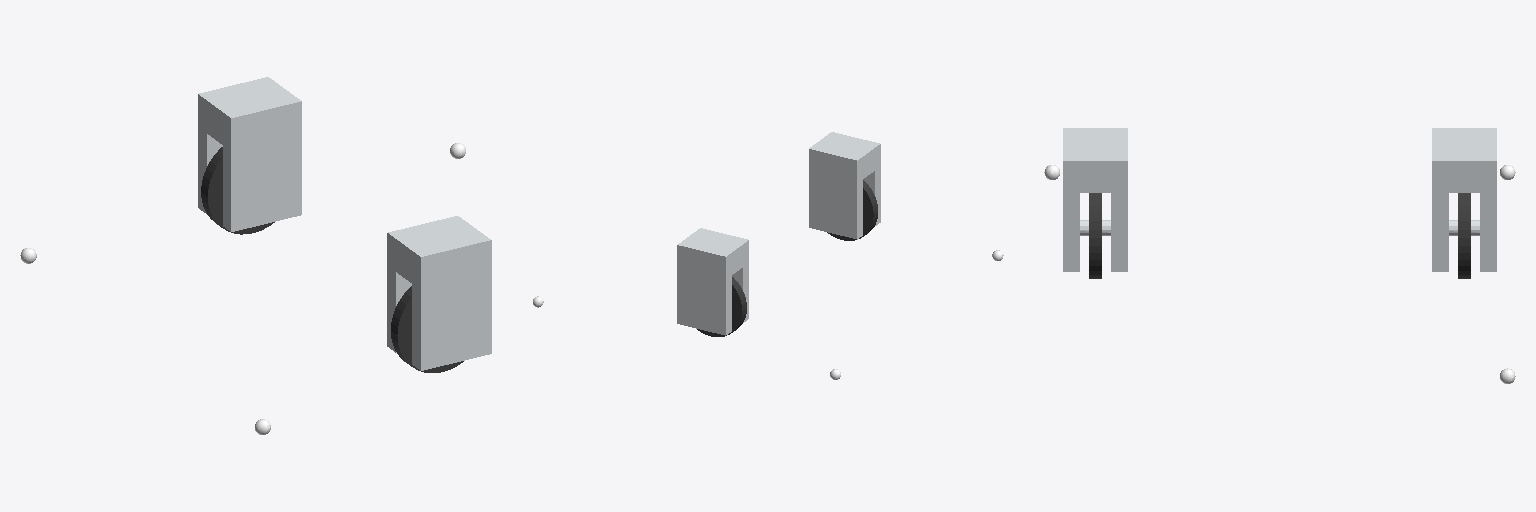
robot.urdf — robot_urdf:
<?xml version="1.0" encoding="utf-8"?>
<!-- This URDF was automatically created by SolidWorks to URDF Exporter! Originally created by
Stephen Brawner (brawner@gmail.com) 
     Commit Version: 1.6.0-4-g7f85cfe  Build Version: 1.6.7995.38578
     For more information, please see http://wiki.ros.org/sw_urdf_exporter -->
<robot
  name="robot_urdf">
  <link
    name="base_link">
  </link>
  <link
    name="chassis_link">
    <inertial>
      <origin
        xyz="-0.0030051 -4.1286E-16 -0.017698"
        rpy="0 0 0" />
      <mass
        value="62.522" />
      <inertia
        ixx="27.455"
        ixy="-5.3228E-14"
        ixz="-0.071116"
        iyy="29.275"
        iyz="-1.4137E-15"
        izz="51.49" />
    </inertial>
    <visual>
      <origin
        xyz="0 0 0"
        rpy="0 0 0" />
      <geometry>
        <mesh
          filename="package://robot_urdf/meshes/2w/chassis_link.STL" />
      </geometry>
      <material
        name="">
        <color
          rgba="0.89804 0.91765 0.92941 1" />
      </material>
    </visual>
    <collision>
      <origin
        xyz="0 0 0"
        rpy="0 0 0" />
      <geometry>
        <mesh
          filename="package://robot_urdf/meshes/2w/chassis_link.STL" />
      </geometry>
    </collision>
  </link>
  <joint
    name="chassis_joint"
    type="fixed">
    <origin
      xyz="0.067275 0 0.96832"
      rpy="0 0 0" />
    <parent
      link="base_link" />
    <child
      link="chassis_link" />
    <axis
      xyz="0 0 0" />
  </joint>
  <link
    name="left_wheel_holder_link">
    <inertial>
      <origin
        xyz="2.0817E-16 -2.2204E-16 -0.2296"
        rpy="0 0 0" />
      <mass
        value="4.2419" />
      <inertia
        ixx="0.1287"
        ixy="-1.0555E-16"
        ixz="-1.5933E-16"
        iyy="0.13522"
        iyz="5.002E-17"
        izz="0.079121" />
    </inertial>
    <visual>
      <origin
        xyz="0 0 0"
        rpy="0 0 0" />
      <geometry>
        <mesh
          filename="package://robot_urdf/meshes/2w/left_wheel_holder_link.STL" />
      </geometry>
      <material
        name="">
        <color
          rgba="0.89804 0.91765 0.92941 1" />
      </material>
    </visual>
    <collision>
      <origin
        xyz="0 0 0"
        rpy="0 0 0" />
      <geometry>
        <mesh
          filename="package://robot_urdf/meshes/2w/left_wheel_holder_link.STL" />
      </geometry>
    </collision>
  </link>
  <joint
    name="left_wheel_holder_joint"
    type="fixed">
    <origin
      xyz="-0.067275 0.7012 -0.42432"
      rpy="0 0 0" />
    <parent
      link="chassis_link" />
    <child
      link="left_wheel_holder_link" />
    <axis
      xyz="0 0 0" />
  </joint>
  <link
    name="left_wheel_link">
    <inertial>
      <origin
        xyz="-6.9389E-18 1.1102E-16 -2.7756E-17"
        rpy="0 0 0" />
      <mass
        value="5.9118" />
      <inertia
        ixx="0.056856"
        ixy="-6.9119E-18"
        ixz="-4.2487E-34"
        iyy="0.11125"
        iyz="-5.5409E-35"
        izz="0.056856" />
    </inertial>
    <visual>
      <origin
        xyz="0 0 0"
        rpy="0 0 0" />
      <geometry>
        <mesh
          filename="package://robot_urdf/meshes/2w/left_wheel_link.STL" />
      </geometry>
      <material
        name="">
        <color
          rgba="0.29804 0.29804 0.29804 1" />
      </material>
    </visual>
    <collision>
      <origin
        xyz="0 0 0"
        rpy="0 0 0" />
      <geometry>
        <mesh
          filename="package://robot_urdf/meshes/2w/left_wheel_link.STL" />
      </geometry>
    </collision>
  </link>
  <joint
    name="left_wheel_joint"
    type="continuous">
    <origin
      xyz="0 0 -0.35"
      rpy="0 0 0" />
    <parent
      link="left_wheel_holder_link" />
    <child
      link="left_wheel_link" />
    <axis
      xyz="0 1 0" />
    <dynamics damping="0.1" friction="0.05" />
    <limit
      effort="100"
      velocity="10" />
  </joint>
  <link
    name="right_wheel_holder_link">
    <inertial>
      <origin
        xyz="1.1102E-16 -1.1102E-16 -0.2296"
        rpy="0 0 0" />
      <mass
        value="4.2419" />
      <inertia
        ixx="0.1287"
        ixy="-8.8611E-17"
        ixz="-1.7835E-16"
        iyy="0.13522"
        iyz="-2.9429E-18"
        izz="0.079121" />
    </inertial>
    <visual>
      <origin
        xyz="0 0 0"
        rpy="0 0 0" />
      <geometry>
        <mesh
          filename="package://robot_urdf/meshes/2w/right_wheel_holder_link.STL" />
      </geometry>
      <material
        name="">
        <color
          rgba="0.89804 0.91765 0.92941 1" />
      </material>
    </visual>
    <collision>
      <origin
        xyz="0 0 0"
        rpy="0 0 0" />
      <geometry>
        <mesh
          filename="package://robot_urdf/meshes/2w/right_wheel_holder_link.STL" />
      </geometry>
    </collision>
  </link>
  <joint
    name="right_wheel_holder_joint"
    type="fixed">
    <origin
      xyz="-0.067275 -0.7012 -0.42432"
      rpy="0 0 0" />
    <parent
      link="chassis_link" />
    <child
      link="right_wheel_holder_link" />
    <axis
      xyz="0 0 0" />
  </joint>
  <link
    name="right_wheel_link">
    <inertial>
      <origin
        xyz="-6.9389E-18 -1.1102E-16 -2.7756E-17"
        rpy="0 0 0" />
      <mass
        value="5.9118" />
      <inertia
        ixx="0.056856"
        ixy="-3.2189E-35"
        ixz="-8.4142E-34"
        iyy="0.11125"
        iyz="1.4733E-18"
        izz="0.056856" />
    </inertial>
    <visual>
      <origin
        xyz="0 0 0"
        rpy="0 0 0" />
      <geometry>
        <mesh
          filename="package://robot_urdf/meshes/2w/right_wheel_link.STL" />
      </geometry>
      <material
        name="">
        <color
          rgba="0.29804 0.29804 0.29804 1" />
      </material>
    </visual>
    <collision>
      <origin
        xyz="0 0 0"
        rpy="0 0 0" />
      <geometry>
        <mesh
          filename="package://robot_urdf/meshes/2w/right_wheel_link.STL" />
      </geometry>
    </collision>
  </link>
  <joint
    name="right_wheel_joint"
    type="continuous">
    <origin
      xyz="0 0 -0.35"
      rpy="0 0 0" />
    <parent
      link="right_wheel_holder_link" />
    <child
      link="right_wheel_link" />
    <axis
      xyz="0 1 0" />
    <dynamics damping="0.1" friction="0.05" />
    <limit
      effort="100"
      velocity="10" />
  </joint>

  <link
    name="depth_camera_link">
  </link>

  <joint
    name="depth_camera_joint"
    type="fixed">
    <origin
      xyz="1.917 0 0.30271"
      rpy="0 1.570796 0" />
    <parent
      link="chassis_link" />
    <child
      link="depth_camera_link" />
    <axis
      xyz="0 0 0" />
  </joint>

  <link
    name="ball_link_fl">
    <inertial>
      <origin
        xyz="0 0 0"
        rpy="0 0 0" />
      <mass
        value="0.20471" />
      <inertia
        ixx="7.3694E-05"
        ixy="0"
        ixz="0"
        iyy="7.3694E-05"
        iyz="0"
        izz="7.3694E-05" />
    </inertial>
    <visual>
      <origin
        xyz="0 0 0"
        rpy="0 0 0" />
      <geometry>
        <mesh
          filename="package://robot_urdf/meshes/2w/ball_link_fl.STL" />
      </geometry>
      <material
        name="">
        <color
          rgba="1 1 1 1" />
      </material>
    </visual>
    <collision>
      <origin xyz="0 0 0" rpy="0 0 0" />
      <geometry>
        <sphere radius="0.025" />
      </geometry>
    </collision>
  </link>

  <joint
    name="ball_joint_fl"
    type="fixed">
    <origin
      xyz="0.917 0.866 -0.93831"
      rpy="0 0 0" />
    <parent
      link="chassis_link" />
    <child
      link="ball_link_fl" />
    <axis
      xyz="0 0 0" />
  </joint>

  <link
    name="ball_link_fr">
    <inertial>
      <origin
        xyz="0 -1.1102E-16 0"
        rpy="0 0 0" />
      <mass
        value="0.20471" />
      <inertia
        ixx="7.3694E-05"
        ixy="0"
        ixz="0"
        iyy="7.3694E-05"
        iyz="0"
        izz="7.3694E-05" />
    </inertial>
    <visual>
      <origin
        xyz="0 0 0"
        rpy="0 0 0" />
      <geometry>
        <mesh
          filename="package://robot_urdf/meshes/2w/ball_link_fr.STL" />
      </geometry>
      <material
        name="">
        <color
          rgba="1 1 1 1" />
      </material>
    </visual>
    <collision>
      <origin xyz="0 0 0" rpy="0 0 0" />
      <geometry>
        <sphere radius="0.025" />
      </geometry>
    </collision>
  </link>

  <joint
    name="ball_joint_fr"
    type="fixed">
    <origin
      xyz="0.917 -0.866 -0.93831"
      rpy="0 0 0" />
    <parent
      link="chassis_link" />
    <child
      link="ball_link_fr" />
    <axis
      xyz="0 0 0" />
  </joint>

  <link
    name="ball_link_br">
    <inertial>
      <origin
        xyz="0 -1.1102E-16 0"
        rpy="0 0 0" />
      <mass
        value="0.20471" />
      <inertia
        ixx="7.3694E-05"
        ixy="0"
        ixz="0"
        iyy="7.3694E-05"
        iyz="0"
        izz="7.3694E-05" />
    </inertial>
    <visual>
      <origin
        xyz="0 0 0"
        rpy="0 0 0" />
      <geometry>
        <mesh
          filename="package://robot_urdf/meshes/2w/ball_link_br.STL" />
      </geometry>
      <material
        name="">
        <color
          rgba="1 1 1 1" />
      </material>
    </visual>
    <collision>
      <origin xyz="0 0 0" rpy="0 0 0" />
      <geometry>
        <sphere radius="0.025" />
      </geometry>
    </collision>
  </link>

  <joint
    name="ball_joint_br"
    type="fixed">
    <origin
      xyz="-0.917 -0.866 -0.93831"
      rpy="3.1416 0 3.1416" />
    <parent
      link="chassis_link" />
    <child
      link="ball_link_br" />
    <axis
      xyz="0 0 0" />
  </joint>

  <link
    name="ball_link_bl">
    <inertial>
      <origin
        xyz="0 0 0"
        rpy="0 0 0" />
      <mass
        value="0.20471" />
      <inertia
        ixx="7.3694E-05"
        ixy="0"
        ixz="0"
        iyy="7.3694E-05"
        iyz="0"
        izz="7.3694E-05" />
    </inertial>
    <visual>
      <origin
        xyz="0 0 0"
        rpy="0 0 0" />
      <geometry>
        <mesh
          filename="package://robot_urdf/meshes/2w/ball_link_bl.STL" />
      </geometry>
      <material
        name="">
        <color
          rgba="1 1 1 1" />
      </material>
    </visual>
    <collision>
      <origin xyz="0 0 0" rpy="0 0 0" />
      <geometry>
        <sphere radius="0.025" />
      </geometry>
    </collision>
  </link>

  <joint
    name="ball_joint_bl"
    type="fixed">
    <origin
      xyz="-0.917 0.866 -0.93831"
      rpy="0 0 0" />
    <parent
      link="chassis_link" />
    <child
      link="ball_link_bl" />
    <axis
      xyz="0 0 0" />
  </joint>

  <link name="path_plane"/>

  <joint
    name="path_plane_joint"
    type="fixed">
    <origin
      xyz="1.017 0 -0.93831"
      rpy="0 0 0" />
    <parent
      link="chassis_link" />
    <child
      link="path_plane" />
    <axis
      xyz="0 0 0" />
  </joint>

  <ros2_control name="IgnitionSystem" type="system">

    <hardware>
      <plugin>ign_ros2_control/IgnitionSystem</plugin>
    </hardware>

    <joint name="left_wheel_joint">
      <command_interface name="velocity" />
      <state_interface name="position" />
      <state_interface name="velocity" />
    </joint>

    <joint name="right_wheel_joint">
      <command_interface name="velocity" />
      <state_interface name="position" />
      <state_interface name="velocity" />
    </joint>

  </ros2_control>

  <gazebo>

    <plugin filename="libign_ros2_control-system.so"
      name="ign_ros2_control::IgnitionROS2ControlPlugin">
      <robot_param>robot_description</robot_param>
      <robot_param_node>robot_state_publisher</robot_param_node>
      <parameters>/home/manfred/Projects/Vitrox/src/robot_urdf/config/diffdrive.yaml</parameters>
    </plugin>

  </gazebo>

  <gazebo reference="left_wheel_link">
    <mu1>1.2</mu1>
    <mu2>1.2</mu2>
    <kp>1000000.0</kp>
    <kd>100.0</kd>
    <minDepth>0.001</minDepth>
    <maxContacts>1</maxContacts>
  </gazebo>

  <gazebo reference="right_wheel_link">
    <mu1>1.2</mu1>
    <mu2>1.2</mu2>
    <kp>1000000.0</kp>
    <kd>100.0</kd>
    <minDepth>0.001</minDepth>
    <maxContacts>1</maxContacts>
  </gazebo>

  <gazebo reference="ball_link_fl">
    <mu1>0.0</mu1>
    <mu2>0.0</mu2>
  </gazebo>

  <gazebo reference="ball_link_fr">
    <mu1>0.0</mu1>
    <mu2>0.0</mu2>
  </gazebo>

  <gazebo reference="ball_link_br">
    <mu1>0.0</mu1>
    <mu2>0.0</mu2>
  </gazebo>

  <gazebo reference="ball_link_bl">
    <mu1>0.0</mu1>
    <mu2>0.0</mu2>
  </gazebo>

  <!-- <gazebo reference="depth_camera_link"> -->
  <!--   <sensor name="rgbd_camera" type="rgbd_camera"> -->
  <!--     <ignition_frame_id>depth_camera_link</ignition_frame_id> -->
  <!--     <camera name="rgbd_camera_frame"> -->
  <!--       <horizontal_fov>1.3962634</horizontal_fov> -->
  <!--       <lens> -->
  <!--         <intrinsics> -->
  <!--           <fx>277.1</fx> -->
  <!--           <fy>277.1</fy> -->
  <!--           <cx>160.5</cx> -->
  <!--           <cy>120.5</cy> -->
  <!--           <s>0</s> -->
  <!--         </intrinsics> -->
  <!--       </lens> -->
  <!--       <distortion> -->
  <!--         <k1>0.104207</k1> -->
  <!--         <k2>-0.255558</k2> -->
  <!--         <k3>0.128694</k3> -->
  <!--         <p1>0.000512</p1> -->
  <!--         <p2>0.000319</p2> -->
  <!--         <center>0.5 0.5</center> -->
  <!--       </distortion> -->
  <!--       <image> -->
  <!--         <width>1280</width> -->
  <!--         <height>720</height> -->
  <!--         <format>L8</format> -->
  <!--       </image> -->
  <!--       <clip> -->
  <!--         <near>0.01</near> -->
  <!--         <far>300</far> -->
  <!--       </clip> -->
  <!--       <depth_camera> -->
  <!--         <clip> -->
  <!--           <near>0.1</near> -->
  <!--           <far>10</far> -->
  <!--         </clip> -->
  <!--       </depth_camera> -->
  <!--       <noise> -->
  <!--         <type>gaussian</type> -->
  <!--         <mean>0</mean> -->
  <!--         <stddev>0.003</stddev> -->
  <!--       </noise> -->
  <!--     </camera> -->
  <!--     <always_on>1</always_on> -->
  <!--     <update_rate>10</update_rate> -->
  <!--     <visualize>0</visualize> -->
  <!--     <topic>depth_camera</topic> -->
  <!--   </sensor> -->
  <!-- </gazebo> -->

  <gazebo reference="depth_camera_link">
    <sensor name="camera" type="camera">
      <ignition_frame_id>depth_camera_link</ignition_frame_id>
      <topic>/camera/image_raw</topic>
      <update_rate>30.0</update_rate>
      <always_on>true</always_on>
      <visualize>true</visualize>
      <camera>
        <horizontal_fov>1.3962634</horizontal_fov>
        <image>
          <width>1280</width>
          <height>720</height>
          <format>R8G8B8</format>
        </image>
        <clip>
          <near>0.02</near>
          <far>300.0</far>
        </clip>
        <noise>
          <type>gaussian</type>
          <mean>0.0</mean>
          <stddev>0.007</stddev>
        </noise>
      </camera>
    </sensor>
  </gazebo>

</robot>

--- What the picture shows (computed from the rendered views, not written in the file) ---
3 views of the same robot in one strip: view 1: azimuth 30°, elevation 25°; view 2: azimuth 150°, elevation 25°; view 3: azimuth 270°, elevation 25° (orthographic).
Model robot_urdf with 12 links and 11 joints (2 continuous, 9 fixed), rooted at base_link, posed all joints at 0.
Links seen in each view (by area): view 1: right_wheel_holder_link, left_wheel_holder_link, left_wheel_link, right_wheel_link; view 2: left_wheel_holder_link, right_wheel_holder_link, right_wheel_link, left_wheel_link; view 3: left_wheel_holder_link, right_wheel_holder_link, left_wheel_link, right_wheel_link.
Link boxes in pixels (x1,y1,x2,y2): right_wheel_holder_link: (387, 216, 491, 370); left_wheel_holder_link: (198, 77, 301, 231); left_wheel_link: (201, 147, 274, 234); right_wheel_link: (391, 286, 463, 372); left_wheel_holder_link: (677, 228, 748, 335); right_wheel_holder_link: (809, 132, 880, 239); right_wheel_link: (827, 180, 877, 240); left_wheel_link: (697, 277, 746, 336); left_wheel_holder_link: (1432, 128, 1496, 271); right_wheel_holder_link: (1063, 128, 1127, 271); left_wheel_link: (1458, 193, 1470, 278); right_wheel_link: (1089, 193, 1101, 278).
Size in the robot's own frame: 1.89 by 1.79 by 0.544 metres.
Meshes: 9 distinct files referenced, 7 mesh visuals loaded (7 binary STL); not drawn: 2 (reference not matched to a file when rendering).
